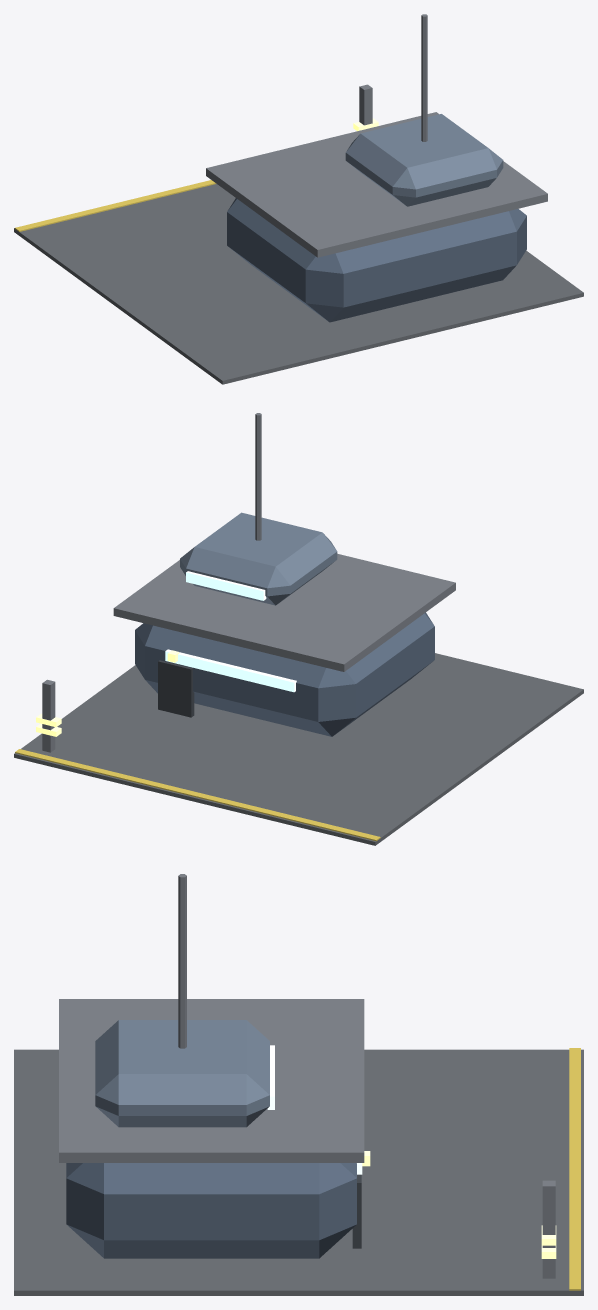
File: zone_low_5_t2.glb
3 renders of one model, top to bottom at view 1: azimuth 30°, elevation 25°; view 2: azimuth 150°, elevation 25°; view 3: azimuth 270°, elevation 25°, orthographic. The views are drawn at different scales.
Parts seen in each view (by area): view 1: zone_low_5_t2, detail; view 2: zone_low_5_t2, detail; view 3: zone_low_5_t2, detail.
Part boxes in pixels (x1,y1,x2,y2): zone_low_5_t2: [14, 112, 583, 384]; detail: [15, 14, 427, 231]; zone_low_5_t2: [14, 512, 583, 845]; detail: [15, 413, 380, 841]; zone_low_5_t2: [14, 999, 583, 1295]; detail: [178, 874, 580, 1290].
Bounding box in the file's own units: 19.6 × 13.47 × 19.6.
